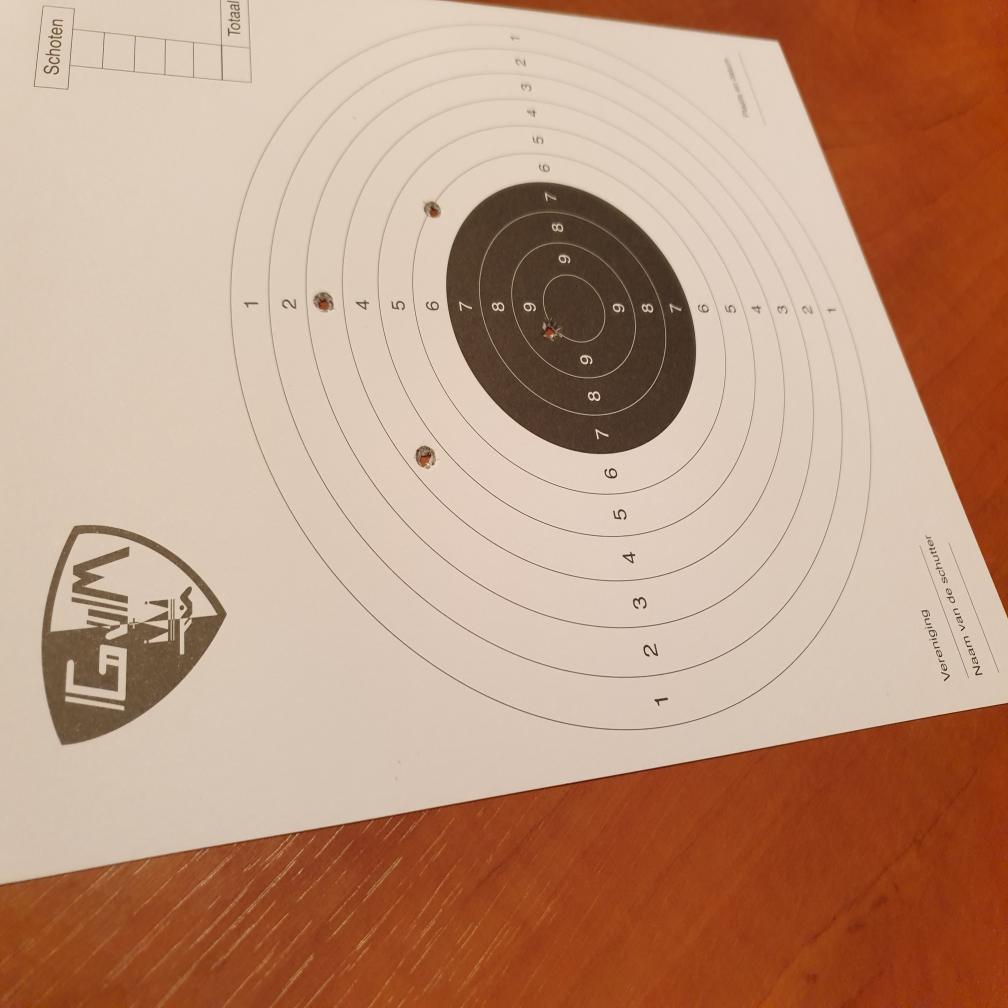10: (540, 318, 564, 342)
3: (310, 288, 337, 315)
4: (413, 443, 438, 471)
6: (421, 199, 444, 222)
Target: (227, 18, 878, 727)
black_contour: (445, 177, 697, 456)
